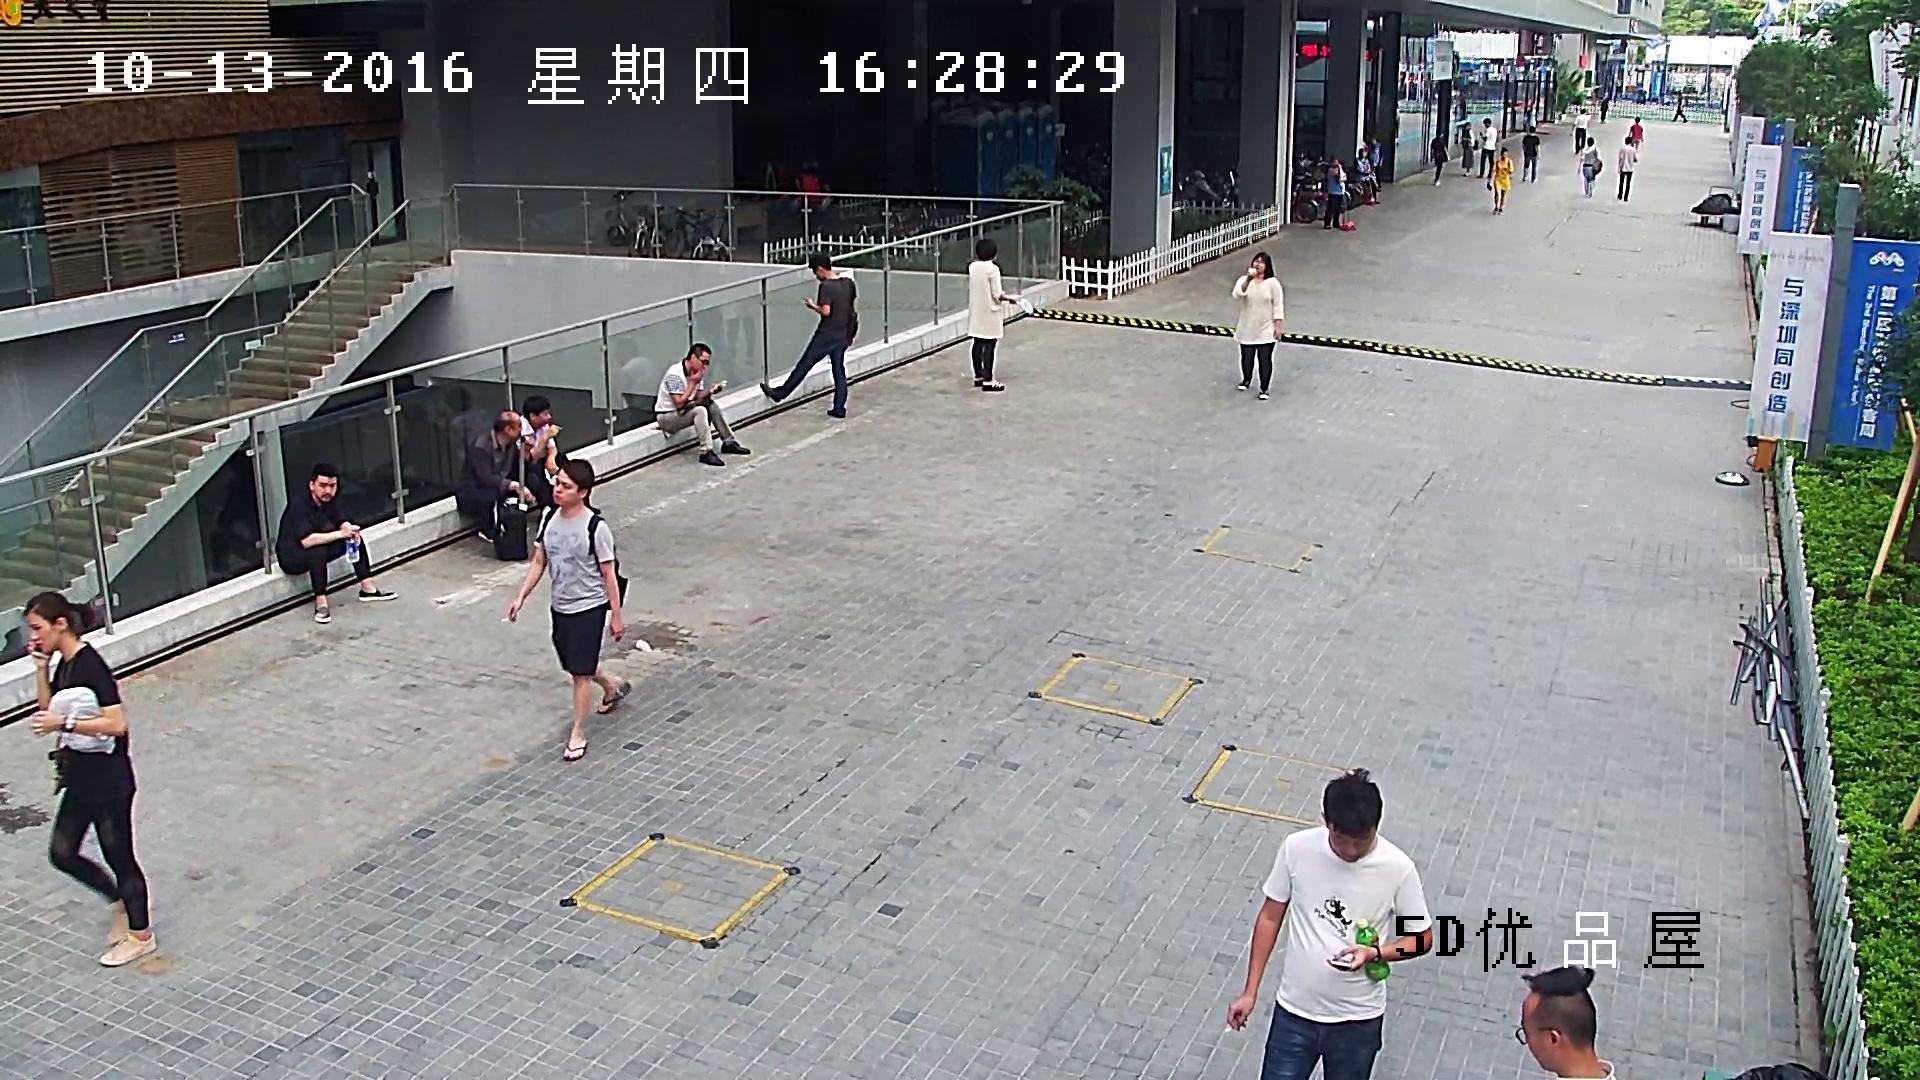person: (1227, 766, 1434, 1080), (22, 591, 157, 968), (508, 459, 632, 762), (275, 463, 399, 624), (759, 251, 858, 417), (455, 409, 537, 561), (455, 410, 537, 561), (655, 342, 749, 465), (515, 395, 604, 526), (968, 238, 1033, 393), (1230, 251, 1283, 400), (1486, 146, 1513, 215), (1323, 155, 1345, 230), (1577, 136, 1602, 198), (1353, 148, 1380, 206), (1476, 118, 1497, 178), (1618, 137, 1637, 201), (1521, 125, 1540, 183), (1430, 129, 1448, 186), (1570, 108, 1590, 154), (1369, 134, 1384, 191), (1334, 159, 1347, 229), (1461, 121, 1474, 176), (1628, 116, 1642, 151), (1672, 91, 1687, 123), (1600, 96, 1610, 123)
